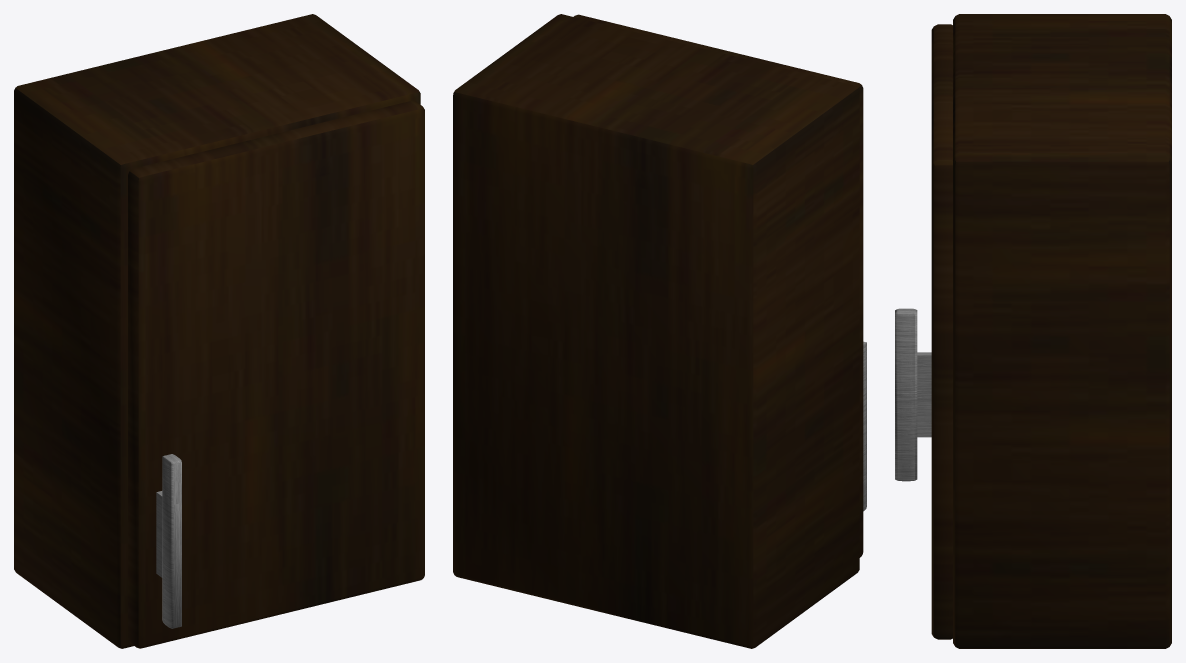
File: Right cupbord.FBX
3 views of the same model, side by side, from view 1: azimuth 30°, elevation 25°; view 2: azimuth 150°, elevation 25°; view 3: azimuth 270°, elevation 25° (orthographic).
Parts seen in each view (by area): view 1: Right cupbord; view 2: Right cupbord; view 3: Right cupbord.
Part boxes in pixels (bbox=[...]): Right cupbord: bbox=[14, 14, 424, 648]; Right cupbord: bbox=[453, 14, 866, 648]; Right cupbord: bbox=[895, 14, 1171, 648].
Bounding box in the file's own units: 47.83 × 73.43 × 37.5.
Materials: 2 (2 with a texture image).
